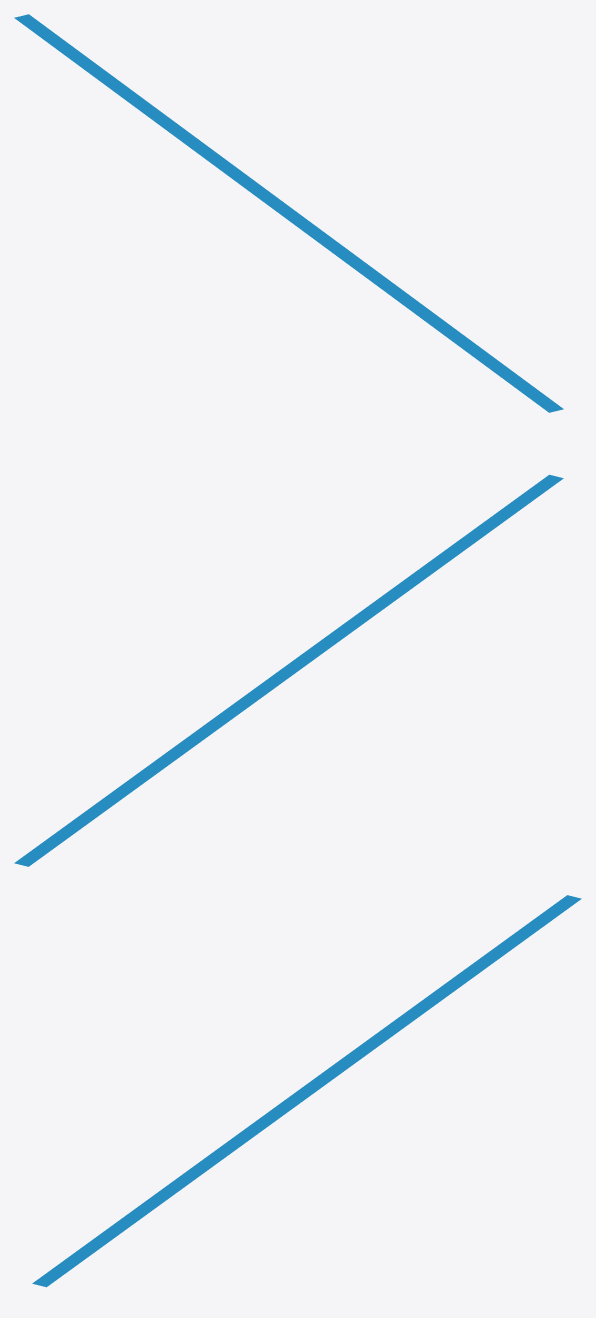
File: guide.glb
The picture shows the model from 3 angles, top to bottom: view 1: azimuth 30°, elevation 25°; view 2: azimuth 150°, elevation 25°; view 3: azimuth 330°, elevation 25°; orthographic projection.
Visible parts, largest first — view 1: static; view 2: static; view 3: static.
Part boxes in pixels (x1=…): static: x1=14, y1=14, x2=563, y2=412; static: x1=14, y1=474, x2=563, y2=866; static: x1=32, y1=895, x2=581, y2=1287.
Size of the model in its own units: 1 by 0 by 21.
